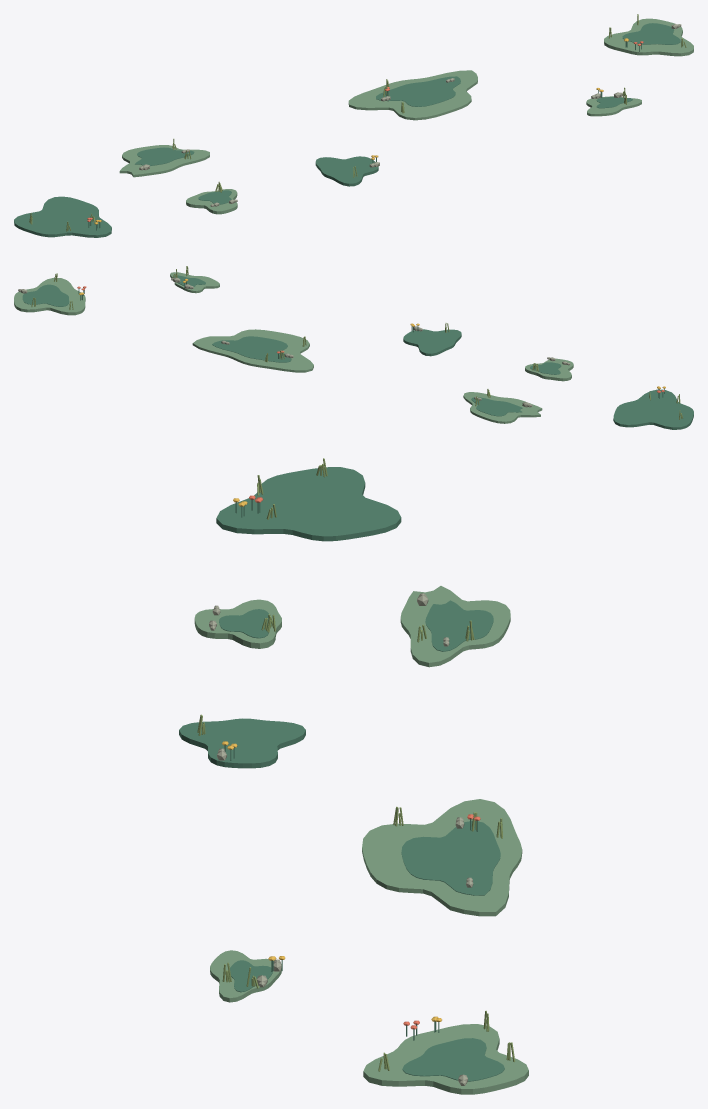
The model's file is squiggle_landscape_reexport_v1.glb.
3 renders of one model, top to bottom at view 1: azimuth 30°, elevation 25°; view 2: azimuth 150°, elevation 25°; view 3: azimuth 270°, elevation 25°, orthographic. The views are drawn at different scales.
Visible parts, largest first — view 1: REFINED_BATCH_LANDSCAPE_REFINED_deep_moss_SOURCE_COPY, REFINED_BATCH_LANDSCAPE_REFINED_meadow_SOURCE_COPY, REFINED_BATCH_LANDSCAPE_REFINED_reed_leaf_SOURCE_COPY, REFINED_BATCH_LANDSCAPE_REFINED_stone_SOURCE_COPY; view 2: REFINED_BATCH_LANDSCAPE_REFINED_deep_moss_SOURCE_COPY, REFINED_BATCH_LANDSCAPE_REFINED_meadow_SOURCE_COPY, REFINED_BATCH_LANDSCAPE_REFINED_reed_leaf_SOURCE_COPY, REFINED_BATCH_LANDSCAPE_REFINED_stone_SOURCE_COPY; view 3: REFINED_BATCH_LANDSCAPE_REFINED_deep_moss_SOURCE_COPY, REFINED_BATCH_LANDSCAPE_REFINED_meadow_SOURCE_COPY, REFINED_BATCH_LANDSCAPE_REFINED_reed_leaf_SOURCE_COPY.
Part boxes in pixels (x1,y1,x2,y2): REFINED_BATCH_LANDSCAPE_REFINED_deep_moss_SOURCE_COPY: [14, 23, 680, 237]; REFINED_BATCH_LANDSCAPE_REFINED_meadow_SOURCE_COPY: [119, 18, 693, 214]; REFINED_BATCH_LANDSCAPE_REFINED_reed_leaf_SOURCE_COPY: [29, 14, 686, 231]; REFINED_BATCH_LANDSCAPE_REFINED_stone_SOURCE_COPY: [139, 24, 681, 206]; REFINED_BATCH_LANDSCAPE_REFINED_deep_moss_SOURCE_COPY: [22, 275, 693, 429]; REFINED_BATCH_LANDSCAPE_REFINED_meadow_SOURCE_COPY: [14, 272, 573, 423]; REFINED_BATCH_LANDSCAPE_REFINED_reed_leaf_SOURCE_COPY: [31, 266, 682, 419]; REFINED_BATCH_LANDSCAPE_REFINED_stone_SOURCE_COPY: [18, 277, 570, 407]; REFINED_BATCH_LANDSCAPE_REFINED_deep_moss_SOURCE_COPY: [179, 467, 504, 1081]; REFINED_BATCH_LANDSCAPE_REFINED_meadow_SOURCE_COPY: [194, 586, 528, 1094]; REFINED_BATCH_LANDSCAPE_REFINED_reed_leaf_SOURCE_COPY: [197, 458, 515, 1071].
Size of the model in its own units: 29.84 by 0.5743 by 7.09.
